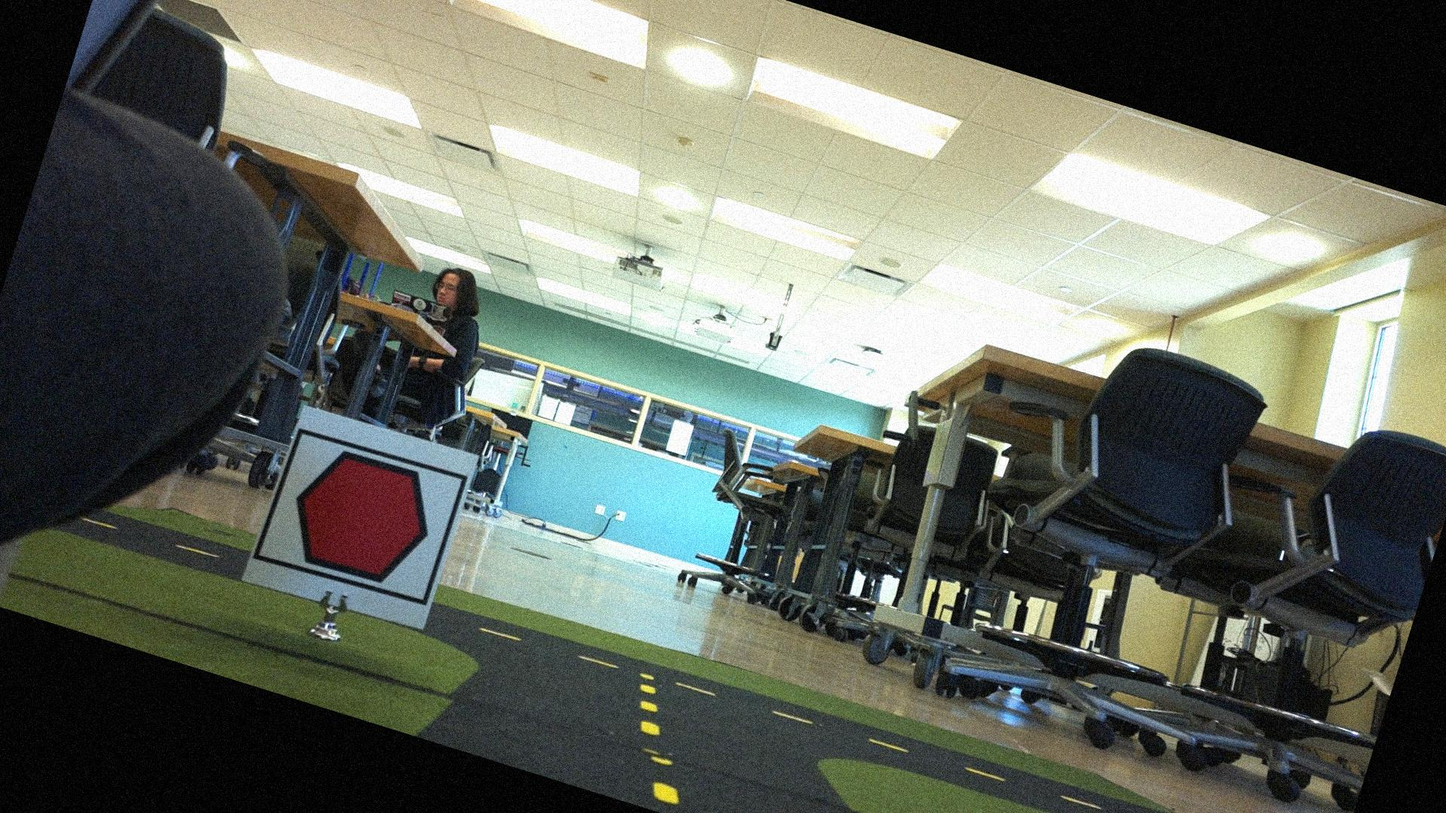stop: (267, 431, 458, 601)
yellowline: (607, 672, 711, 810)
